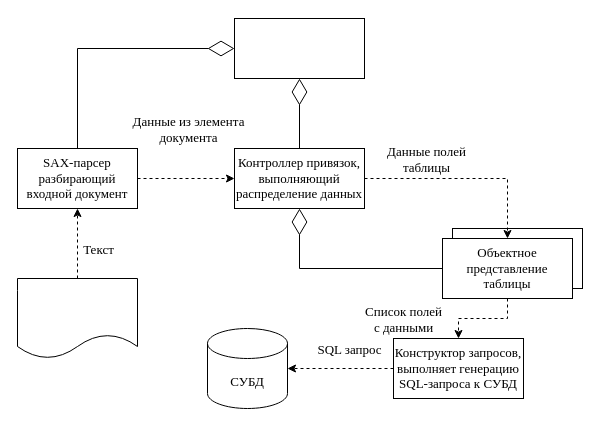
The diagram is 600 pixels wide and 426 high, and some of its shapes have lost their labels. The box of each missing label's shape, as (x1, y1, x2, y2) in pixels:
Входной XML-документ: (16, 278, 138, 358)
Контейнер, содержащий информацию о загрузке: (234, 18, 364, 78)
